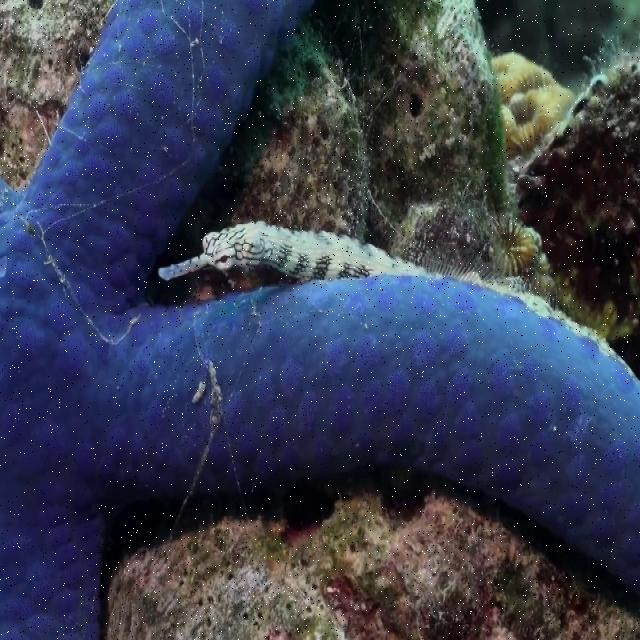reefs: (0, 1, 639, 639), (160, 220, 621, 358)
